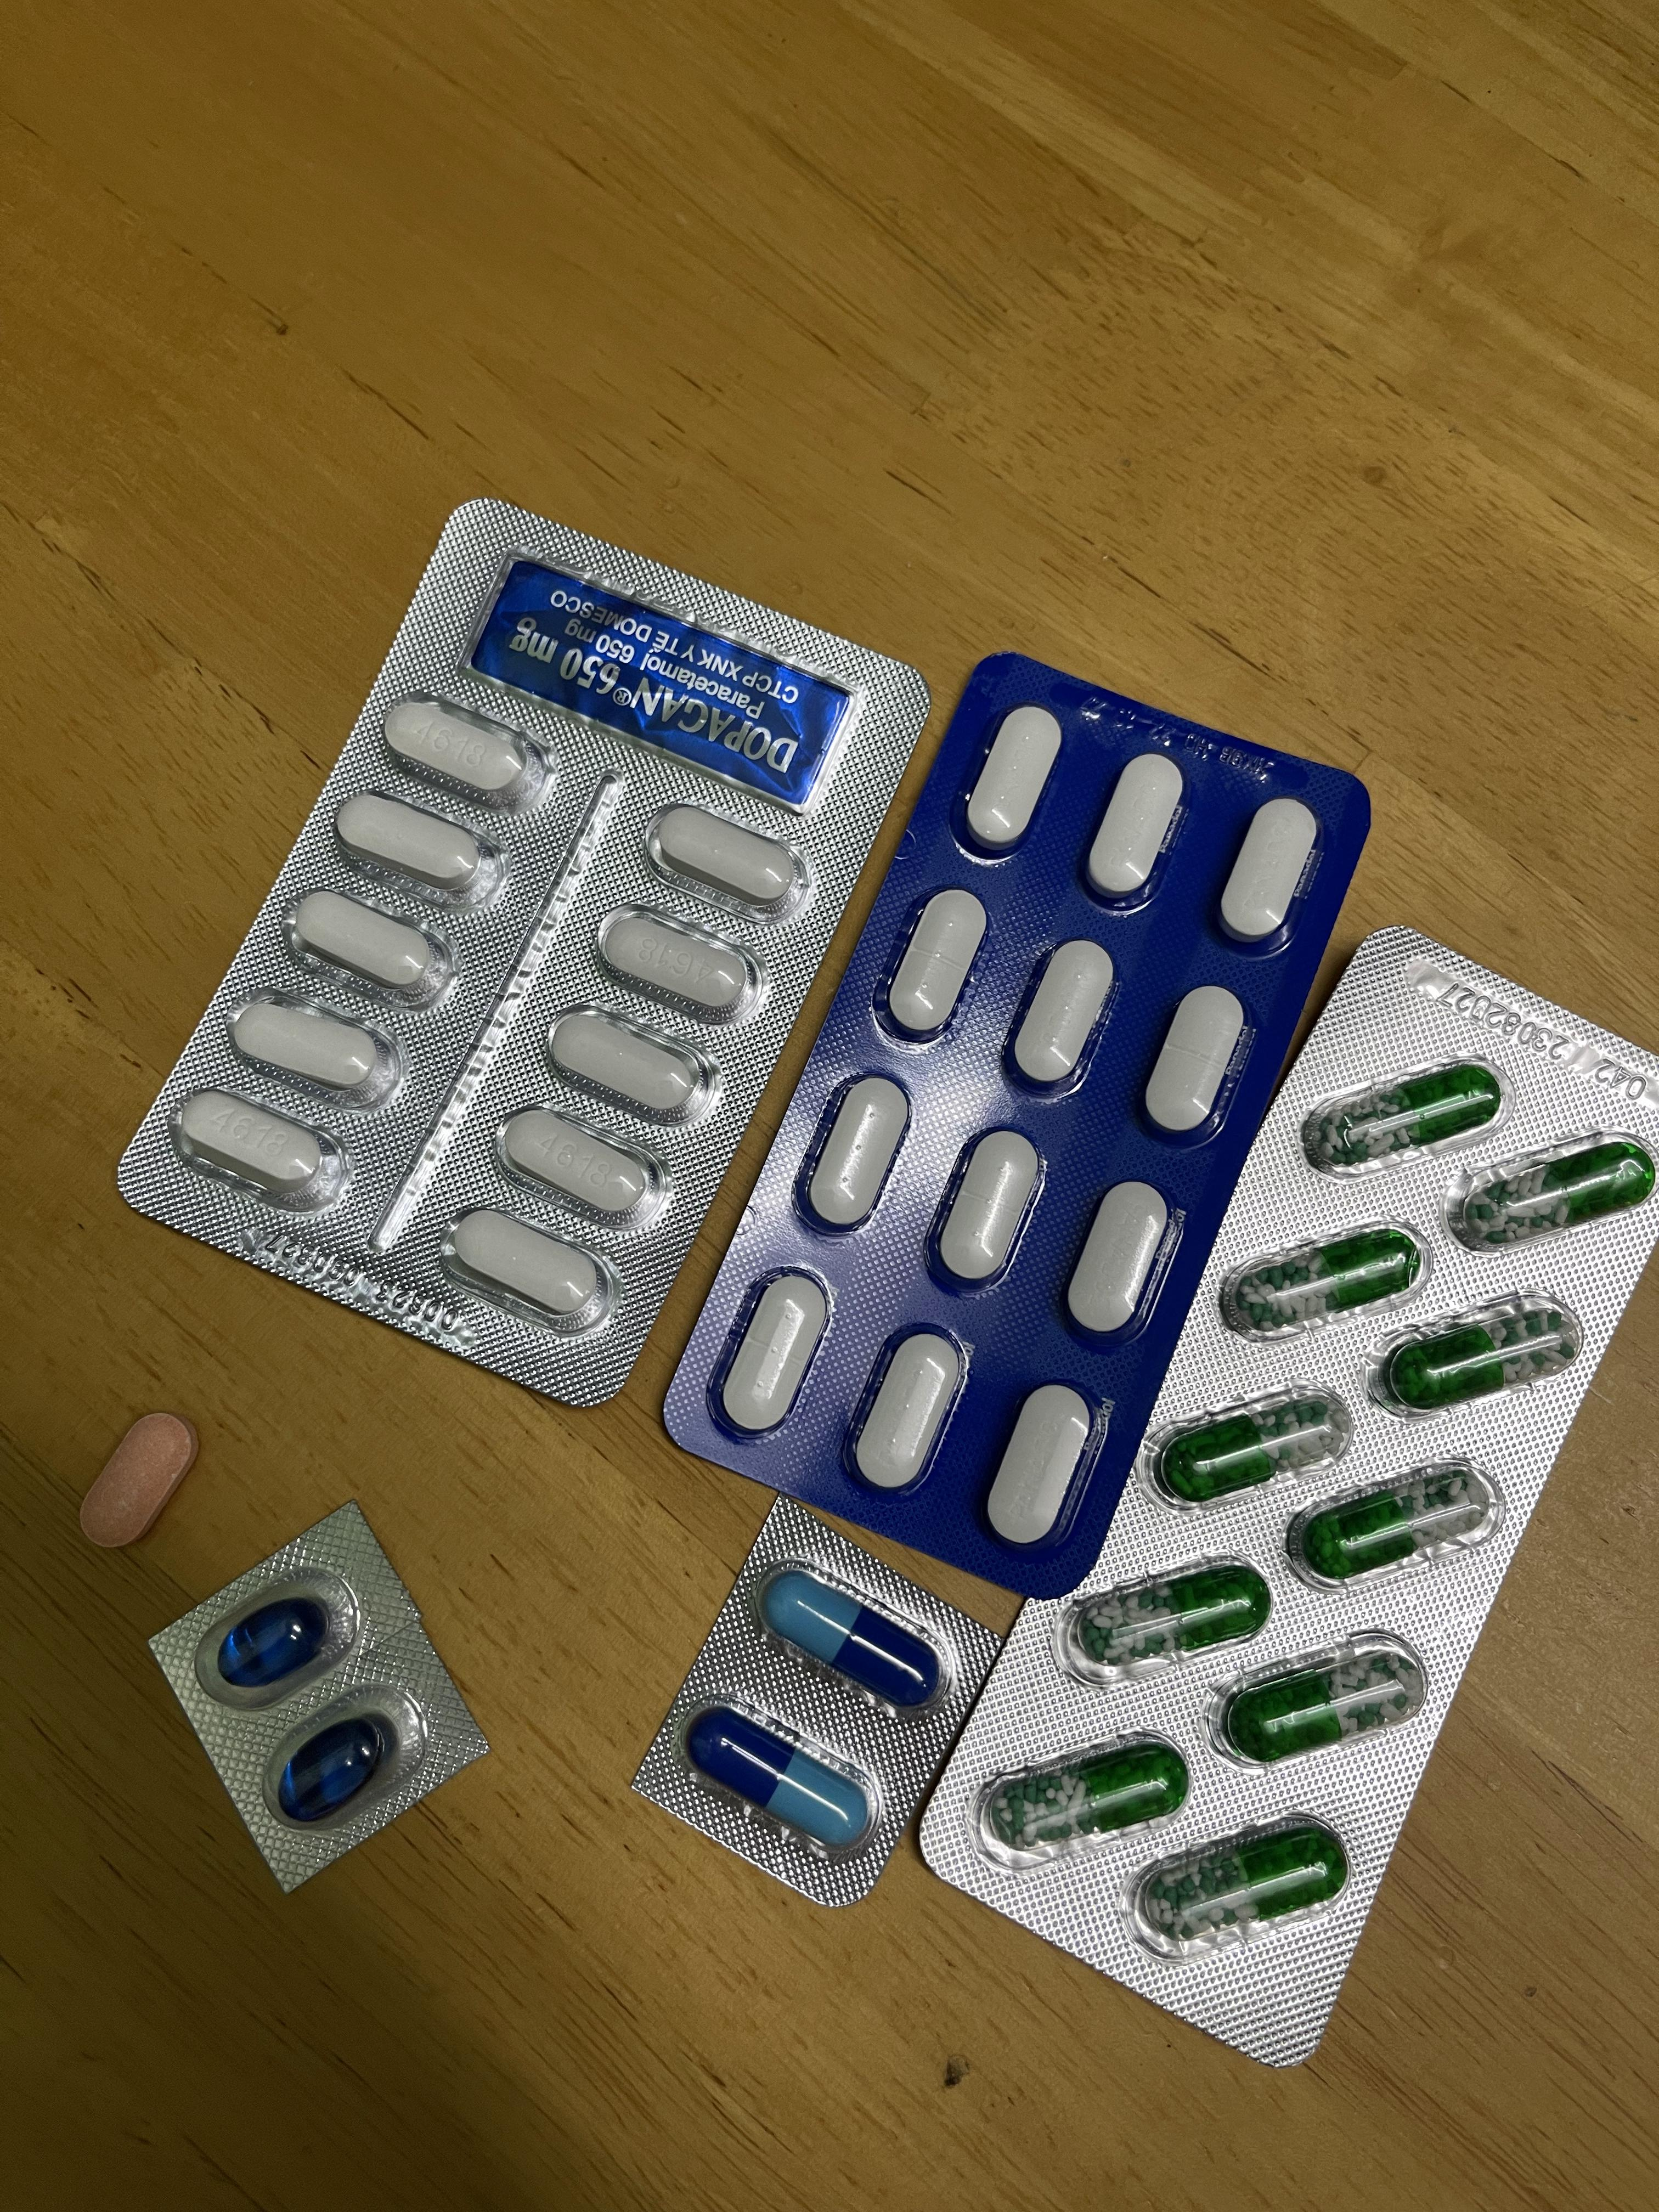Lincomyxin_500mg: (275, 1716, 387, 1822), (216, 1595, 328, 1688)
Loratadine_10mg: (77, 1411, 197, 1547)
Paracetamol_350mg: (985, 1385, 1098, 1547), (1002, 941, 1117, 1099), (1063, 1181, 1176, 1341), (718, 1270, 828, 1433), (932, 1125, 1044, 1285), (852, 1334, 964, 1491), (1141, 984, 1249, 1141), (884, 888, 988, 1042), (1216, 796, 1321, 948), (1084, 752, 1187, 904), (803, 1076, 906, 1228), (964, 704, 1065, 855)
Paracetamol_500mg: (171, 1085, 352, 1216), (439, 1204, 619, 1334), (500, 1104, 676, 1230), (228, 988, 408, 1108), (380, 690, 556, 812), (547, 1001, 721, 1123), (281, 888, 457, 1008), (331, 789, 504, 907), (598, 904, 763, 1026), (640, 801, 805, 921)
Paracetamol_650mg: (1208, 1635, 1425, 1768), (1368, 1296, 1581, 1418), (1450, 1130, 1659, 1252), (1141, 1824, 1342, 1946), (1159, 1393, 1340, 1501), (999, 1747, 1183, 1851), (1300, 1479, 1486, 1581), (1310, 1064, 1499, 1165), (1089, 1566, 1263, 1660), (1246, 1240, 1422, 1331)
pill: (763, 1571, 941, 1710), (694, 1710, 871, 1848)
